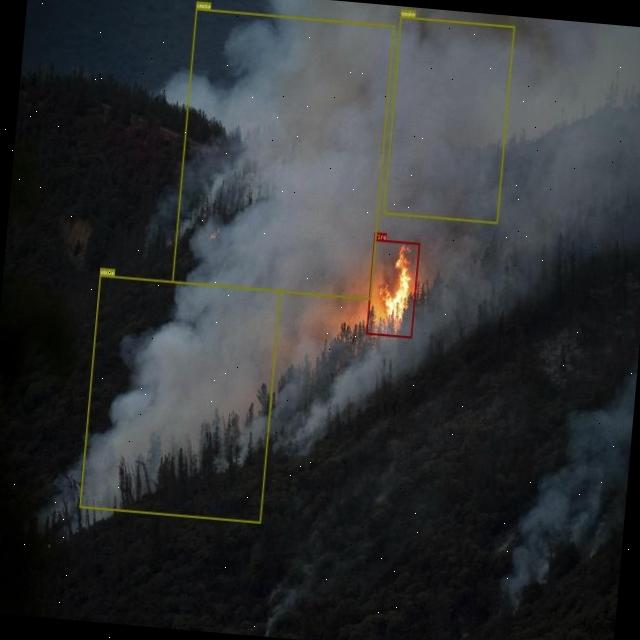fire: (365, 238, 419, 338)
smoke: (172, 7, 395, 299), (78, 274, 280, 522), (382, 16, 514, 223)
